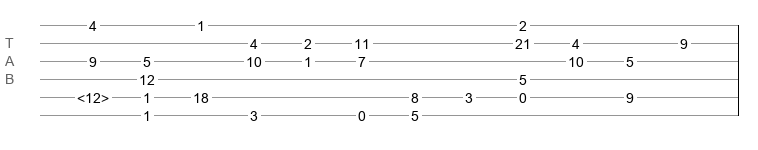0: (358, 108, 366, 118), (519, 90, 527, 100)
1: (143, 108, 151, 118), (143, 90, 151, 100), (197, 18, 205, 28), (304, 54, 312, 64)
10: (246, 54, 262, 64), (568, 54, 584, 64)
11: (354, 36, 370, 46)
12: (139, 72, 155, 82)
18: (193, 90, 209, 100)
2: (304, 36, 312, 46), (519, 18, 527, 28)
21: (515, 36, 531, 46)
3: (250, 108, 258, 118), (465, 90, 473, 100)
4: (89, 18, 97, 28), (250, 36, 258, 46), (572, 36, 580, 46)
5: (143, 54, 151, 64), (411, 108, 419, 118), (519, 72, 527, 82), (626, 54, 634, 64)
7: (358, 54, 366, 64)
8: (411, 90, 419, 100)
9: (89, 54, 97, 64), (626, 90, 634, 100), (680, 36, 688, 46)
harmonic: (77, 90, 109, 100)
